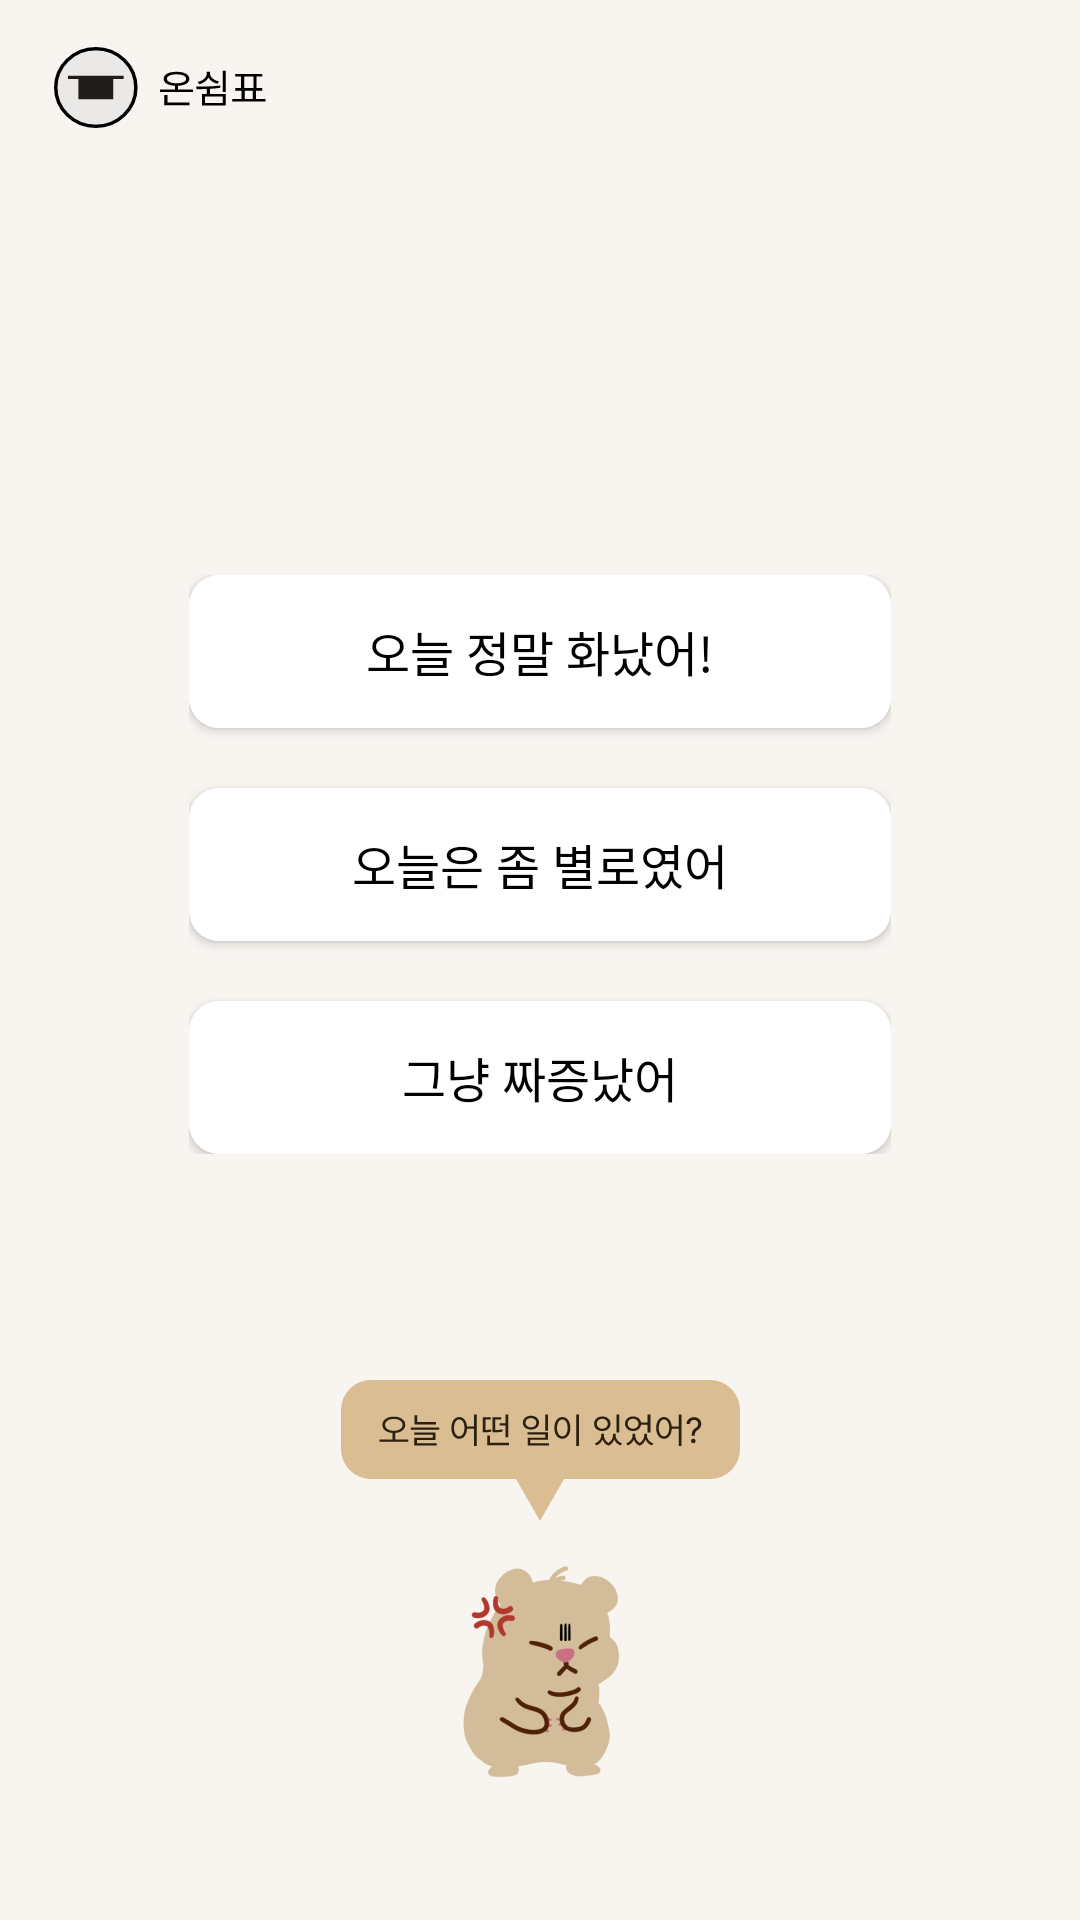

Icon bounding boxes for this 1080×1920 phone screenshot, format rect(x1, y1, x2, y2):
angry page: rect(463, 1566, 619, 1777)
